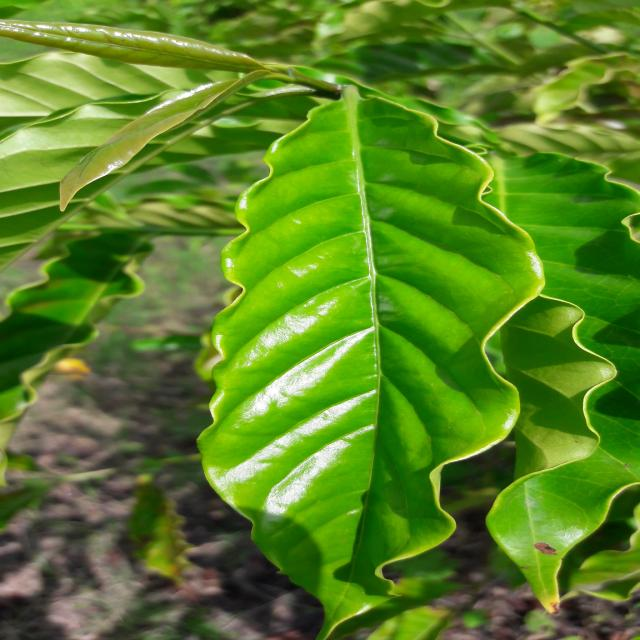Sanas: (196, 87, 547, 626)
